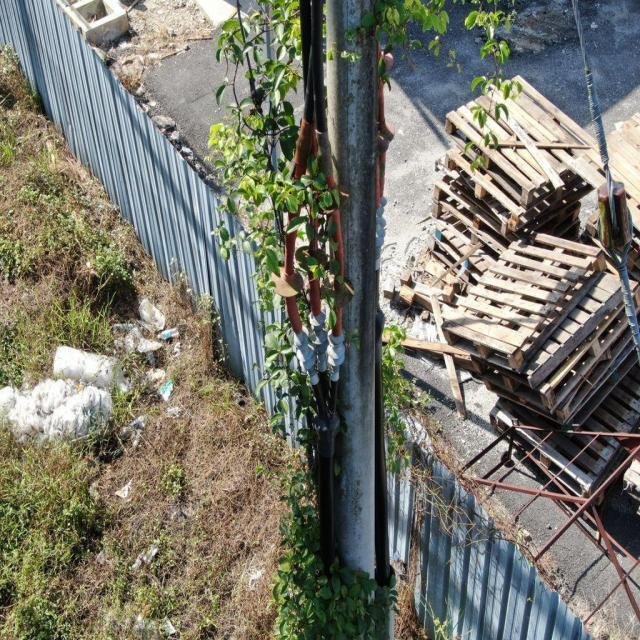critical vegetation: (230, 1, 406, 620)
